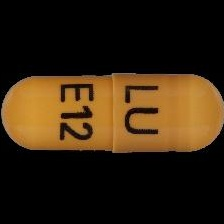54868-5792: (0, 0, 224, 224)
